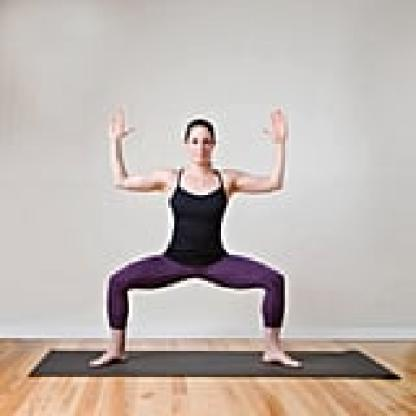godness: (83, 101, 306, 375)
